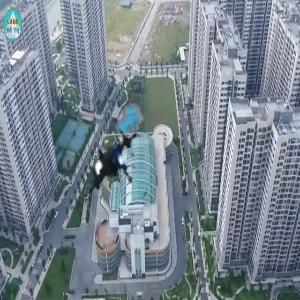drone: (71, 128, 158, 215)
